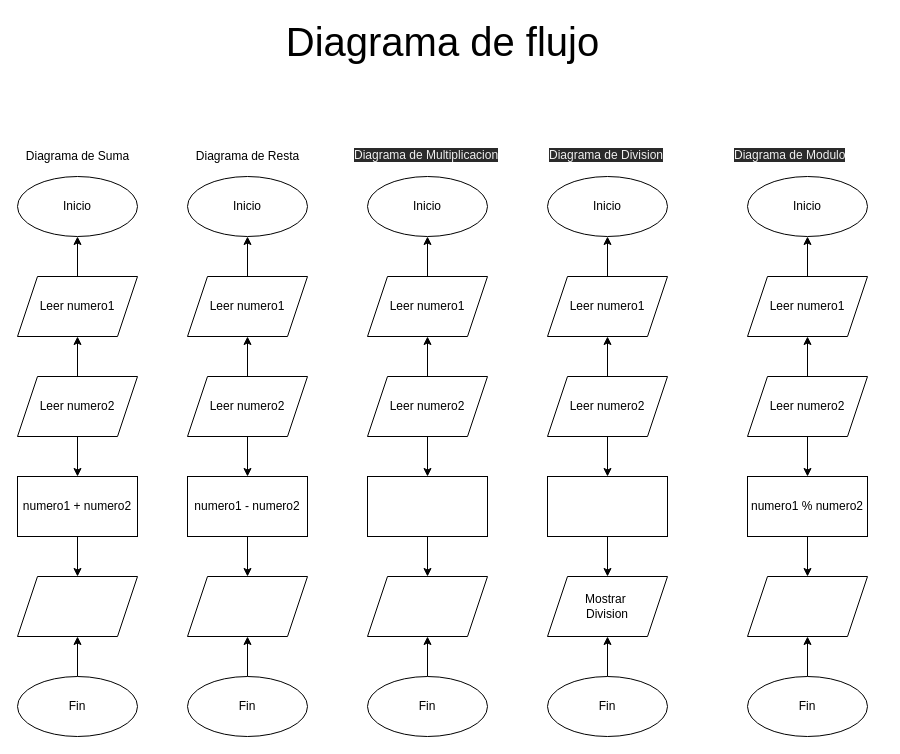
The diagram is 900 pixels wide and 754 high, and some of its shapes have lost their labels. The centre of each missing label's shape, as x and y in pixels:
"Mostrar Modulo" goes at pixel 807 606.
"Mostrar Multiplicacion" goes at pixel 427 606.
"Mostrar Resta" goes at pixel 247 606.
"Mostrar Suma" goes at pixel 77 606.
"numero1 * numero2" goes at pixel 427 506.
"numero1 / numero2" goes at pixel 607 506.
